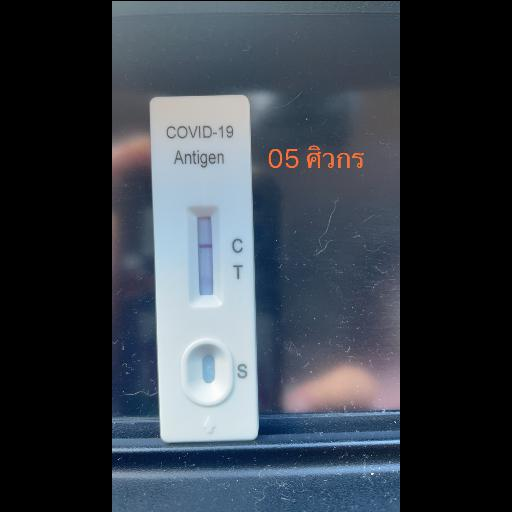Neg: (148, 92, 256, 436)
